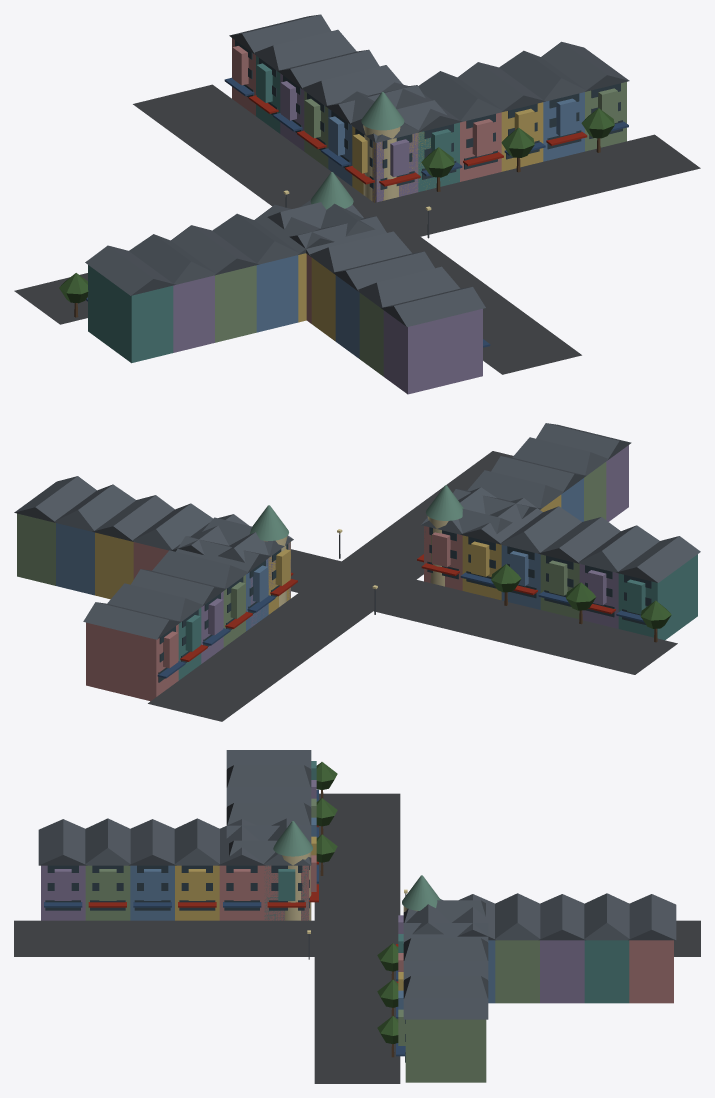
The model's file is desktop.glb.
The picture shows the model from 3 angles, top to bottom: view 1: azimuth 30°, elevation 25°; view 2: azimuth 150°, elevation 25°; view 3: azimuth 270°, elevation 25°; orthographic projection. The views are drawn at different scales.
Visible parts, largest first — view 1: lm.haight-ashbury; view 2: lm.haight-ashbury; view 3: lm.haight-ashbury.
Part boxes in pixels (x1,y1,x2,y2): lm.haight-ashbury: (14, 14, 700, 394); lm.haight-ashbury: (14, 423, 700, 721); lm.haight-ashbury: (14, 750, 700, 1083).
Size of the model in its own units: 128 by 20.6 by 128.
